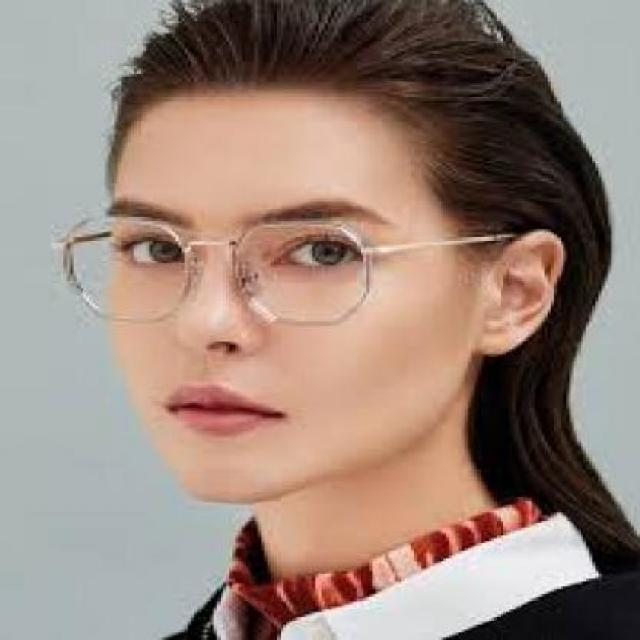mask: (46, 200, 397, 326)
